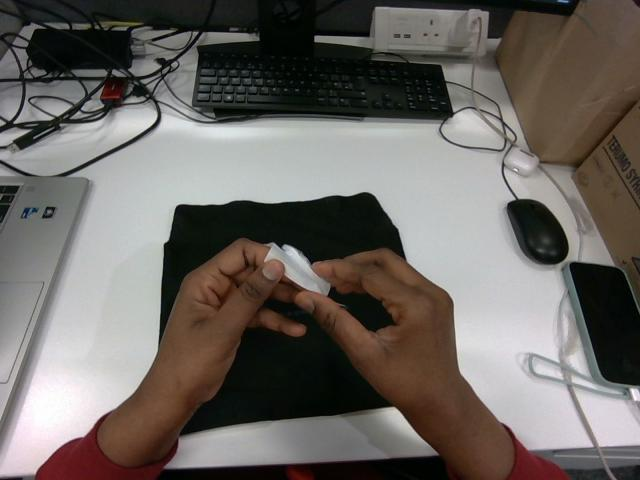gauze: (265, 243, 330, 295)
